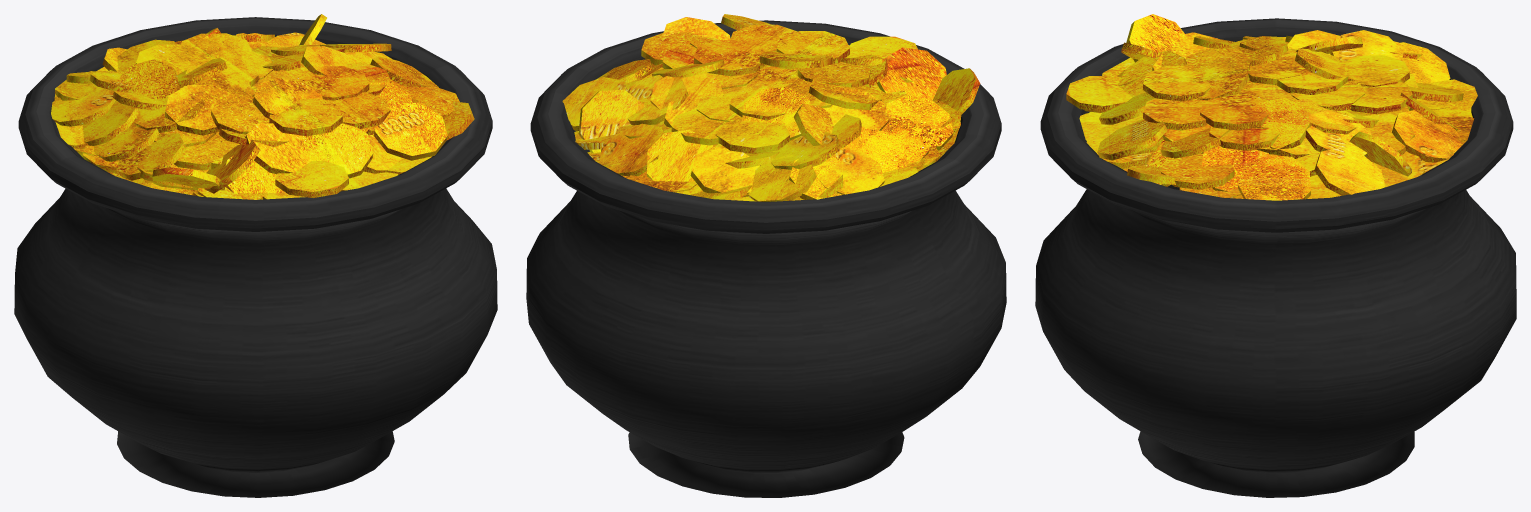
Rendered from Goldpot.fbx.
3 renders of one model, left to right at view 1: azimuth 30°, elevation 25°; view 2: azimuth 150°, elevation 25°; view 3: azimuth 270°, elevation 25°, orthographic.
Visible parts, largest first — view 1: polySurface93; view 2: polySurface93; view 3: polySurface93.
Boxes of the visible parts, bbox=[...] form: polySurface93: bbox=[14, 14, 497, 497]; polySurface93: bbox=[526, 14, 1006, 497]; polySurface93: bbox=[1035, 14, 1516, 497].
Size of the model in its own units: 107 by 91.43 by 107.
Materials: 2 (2 with a texture image).
